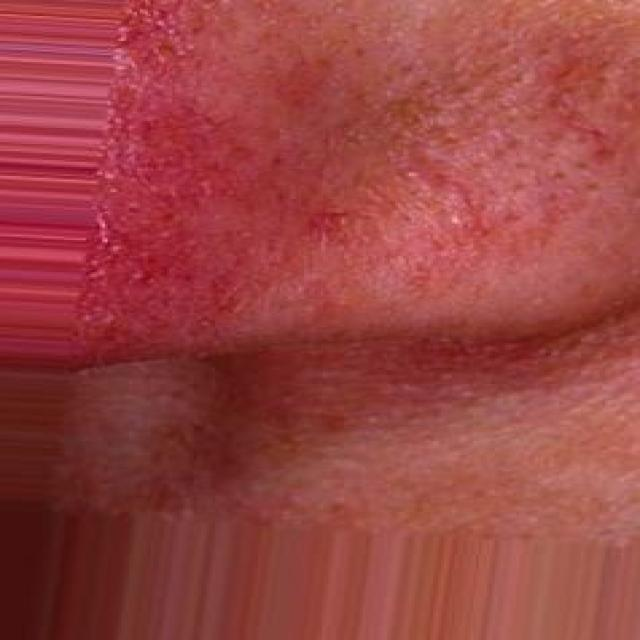Rosacea: (77, 0, 280, 360)
